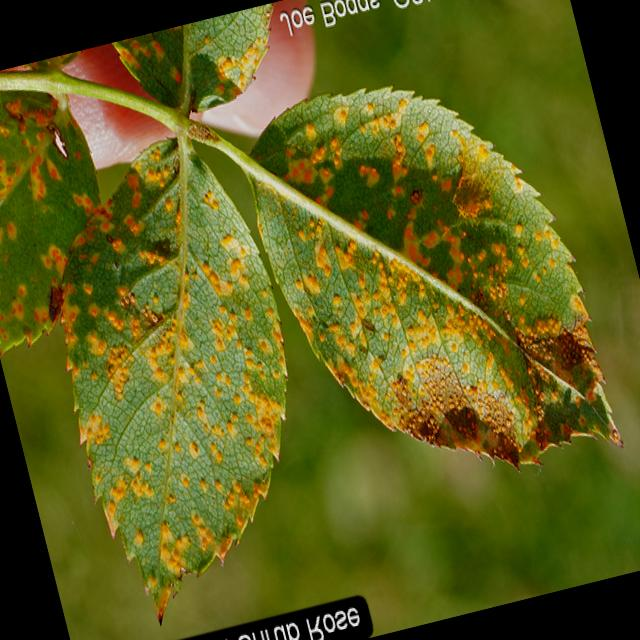leaf_rust: (0, 4, 621, 620)
